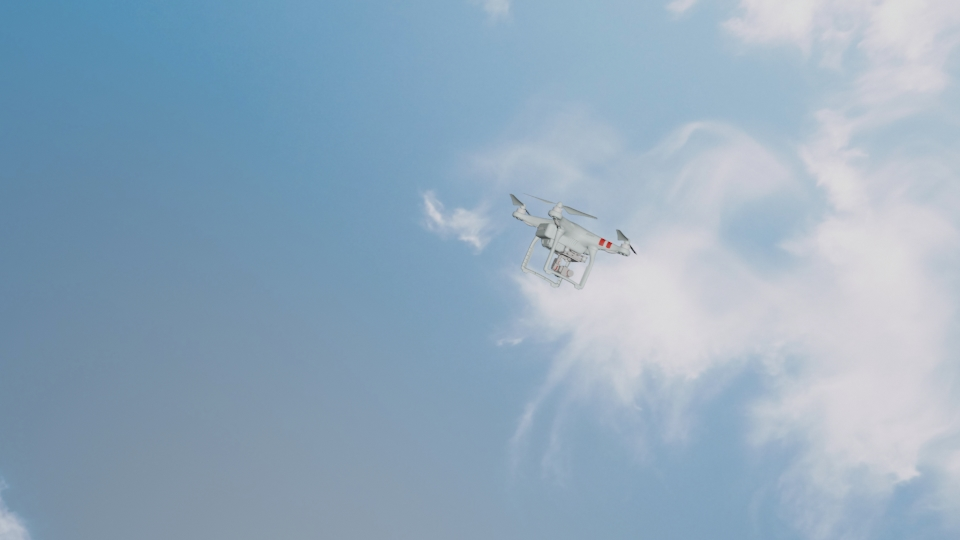drone: (503, 193, 634, 289)
